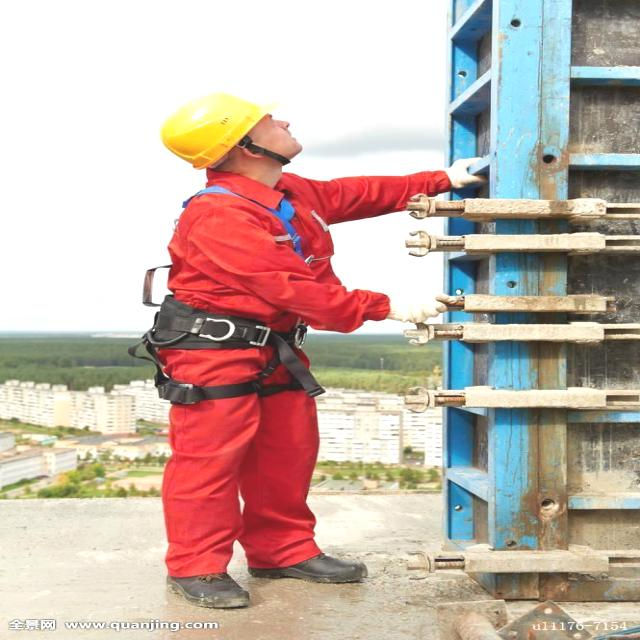face_nomask: (253, 109, 317, 164)
hand_glove: (387, 284, 465, 325), (440, 149, 500, 193)
head_helmet: (158, 92, 286, 161)
person: (144, 96, 376, 606)
shoes: (243, 540, 374, 592), (152, 560, 261, 612)
